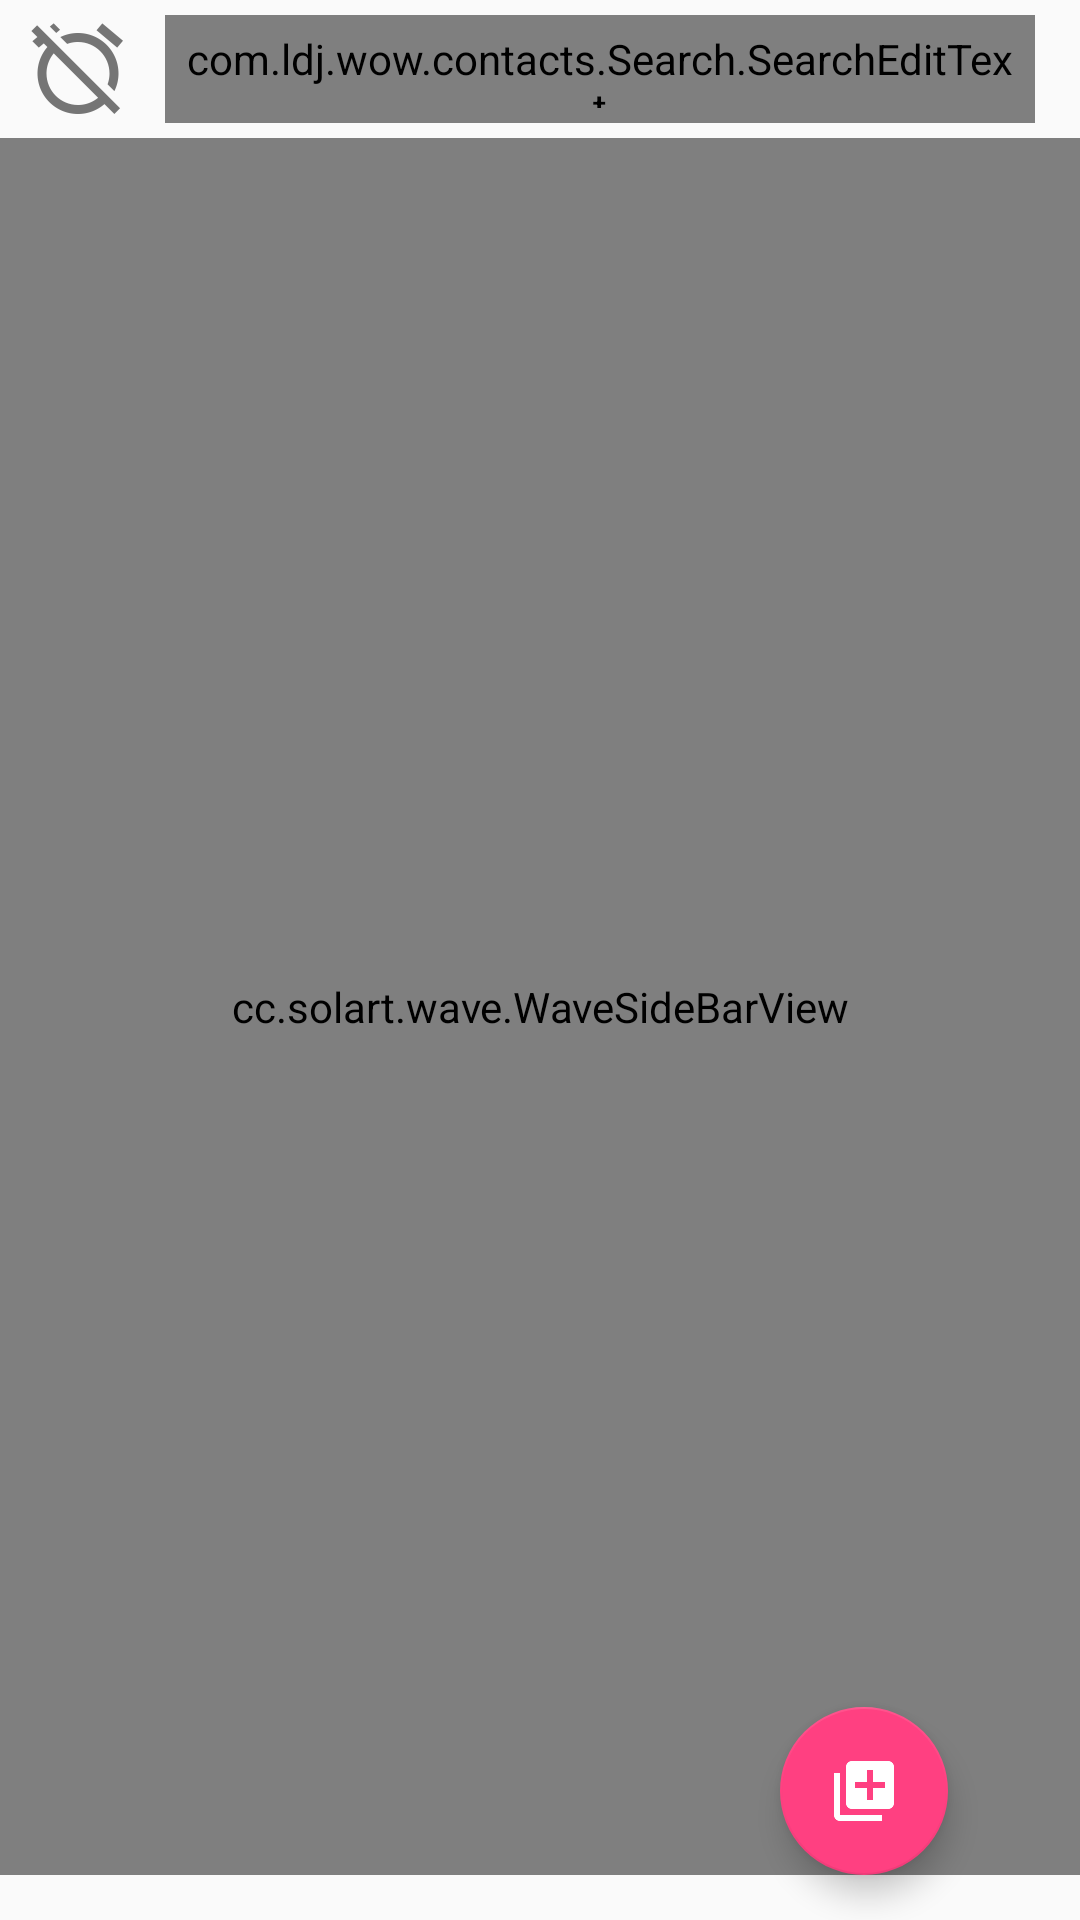

Named icons in this screenshot (1080 × 1920) and their bounding boxes, [x1,y1,x2,y2]:
alarm off: [31,23,123,114]
library add: [780,1707,948,1875]
